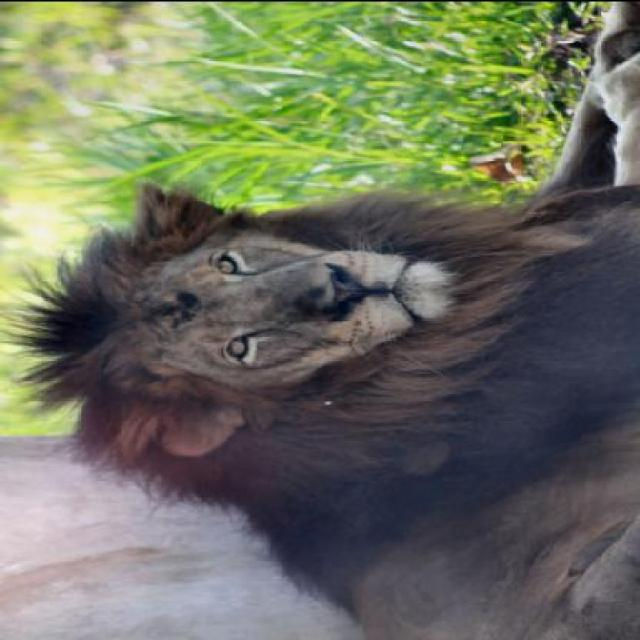Lion: (20, 40, 638, 637)
